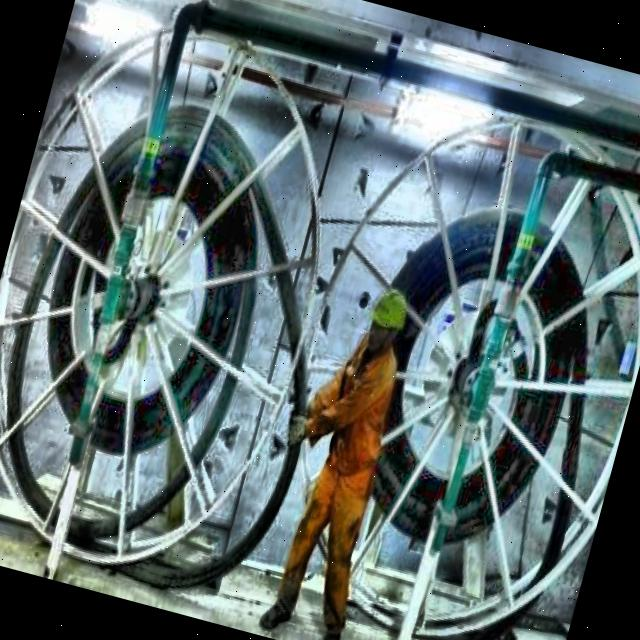helmet: (360, 280, 414, 352)
